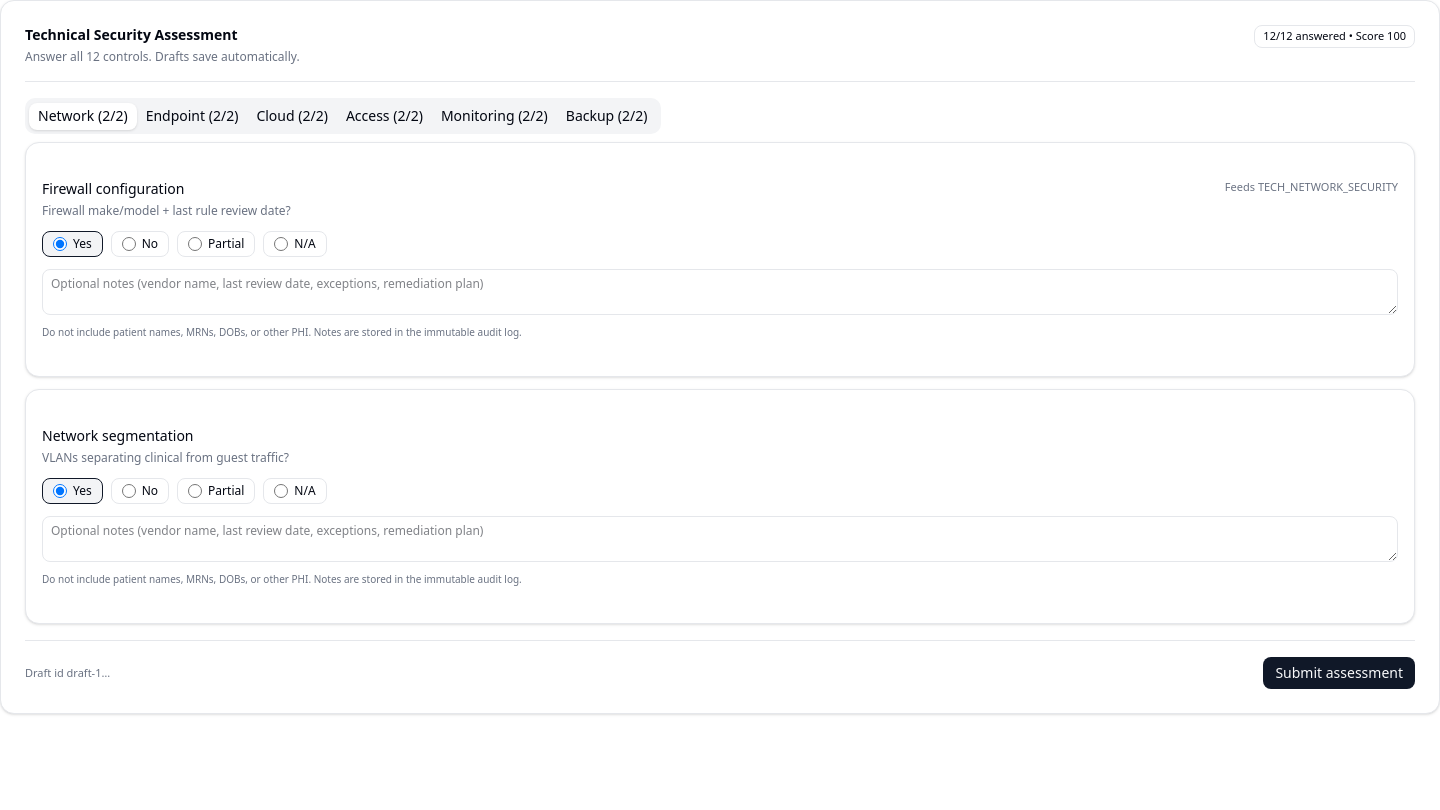
it: <TechWizard> › surfaces a completeTechAssessmentAction error in the role=alert banner
Click the button "Submit assessment". click: [1339, 673]
box: [1263,657,1415,689]
Wait 50 ms
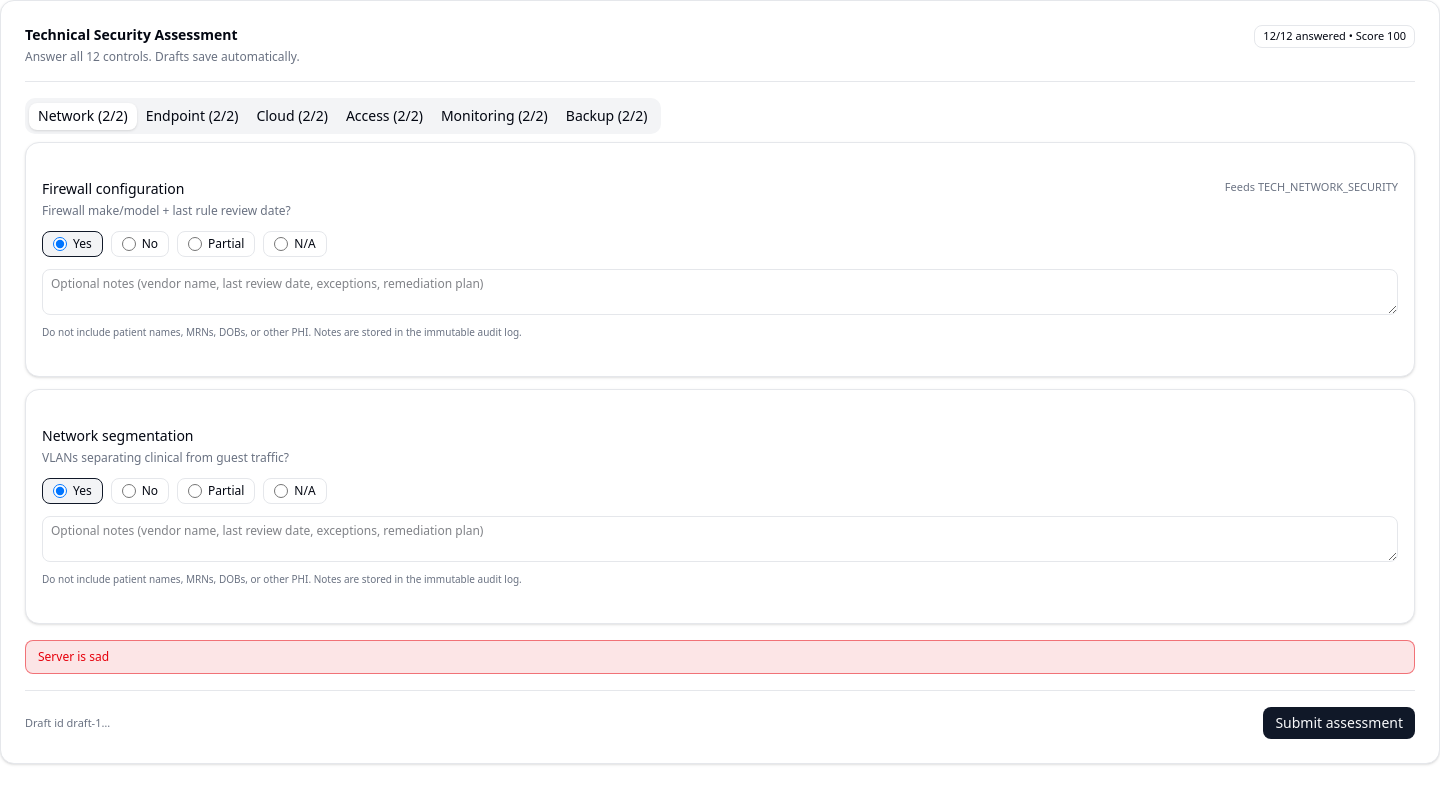
Check: the message reads "Server is sad", box [38,648,109,665]
